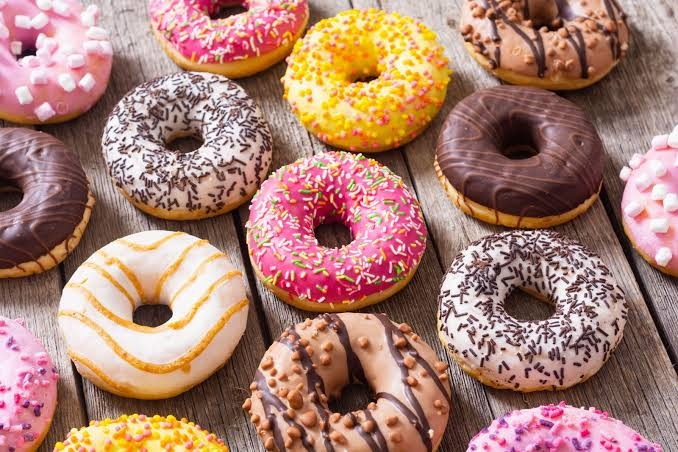doughunut: (59, 231, 247, 397), (439, 233, 624, 390), (248, 154, 426, 310), (247, 315, 451, 450), (102, 72, 272, 218), (438, 86, 608, 227), (283, 7, 449, 151), (458, 0, 632, 90), (339, 314, 450, 448), (0, 2, 112, 125), (0, 127, 92, 273), (247, 316, 347, 448), (148, 0, 307, 75), (465, 404, 666, 452), (623, 138, 678, 281), (0, 316, 60, 445), (55, 415, 233, 452), (294, 317, 348, 396)
